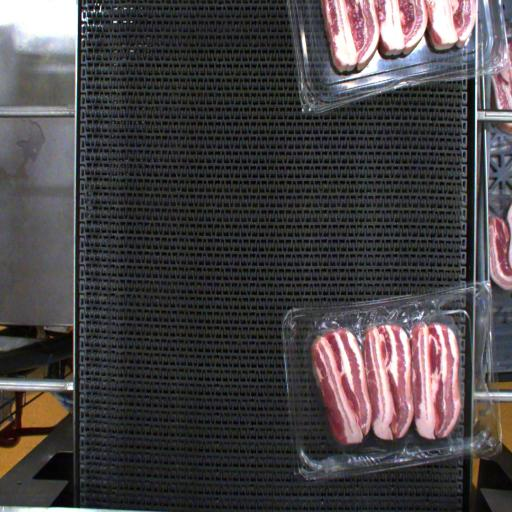unsealed: (300, 299, 473, 361)
